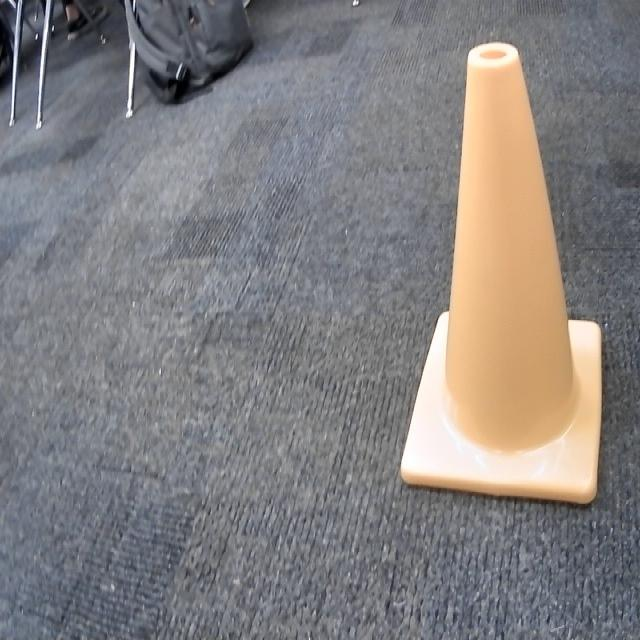cone: (399, 40, 602, 507)
